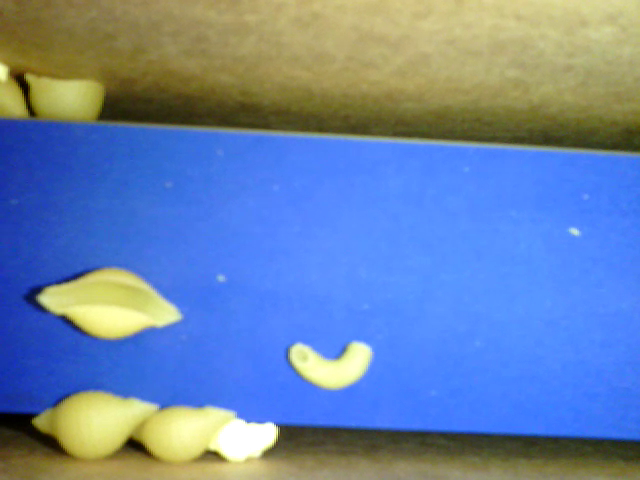elbow: (290, 338, 375, 391)
shell: (36, 270, 182, 343), (33, 393, 163, 463), (132, 403, 239, 462), (24, 74, 105, 125)
